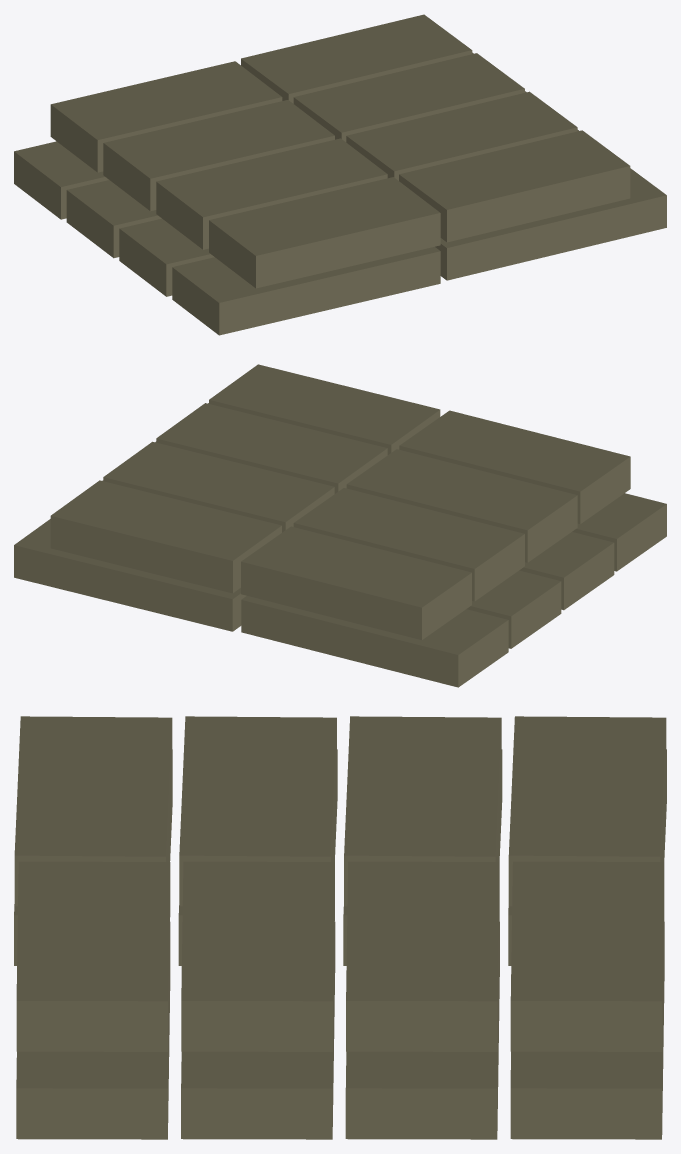
File: SM_BanquetaCorta_v1_LOD0.fbx
The picture shows the model from 3 angles, top to bottom: view 1: azimuth 30°, elevation 25°; view 2: azimuth 150°, elevation 25°; view 3: azimuth 270°, elevation 25°; orthographic projection. The views are drawn at different scales.
Visible parts, largest first — view 1: SM_banqueta_tiro_v11_LOD0; view 2: SM_banqueta_tiro_v11_LOD0; view 3: SM_banqueta_tiro_v11_LOD0.
Part boxes in pixels (x1,y1,x2,y2): SM_banqueta_tiro_v11_LOD0: (14, 14, 666, 335); SM_banqueta_tiro_v11_LOD0: (14, 364, 666, 687); SM_banqueta_tiro_v11_LOD0: (14, 716, 666, 1139).
Size of the model in its own units: 2.45 by 0.37 by 1.98.
